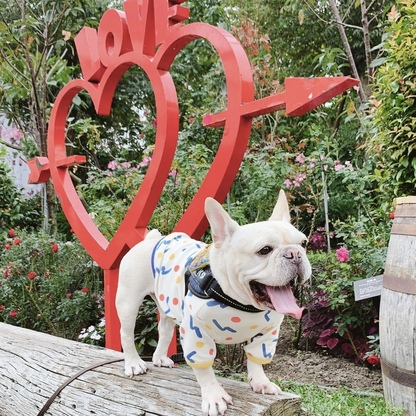bulldog: (113, 187, 320, 416)
